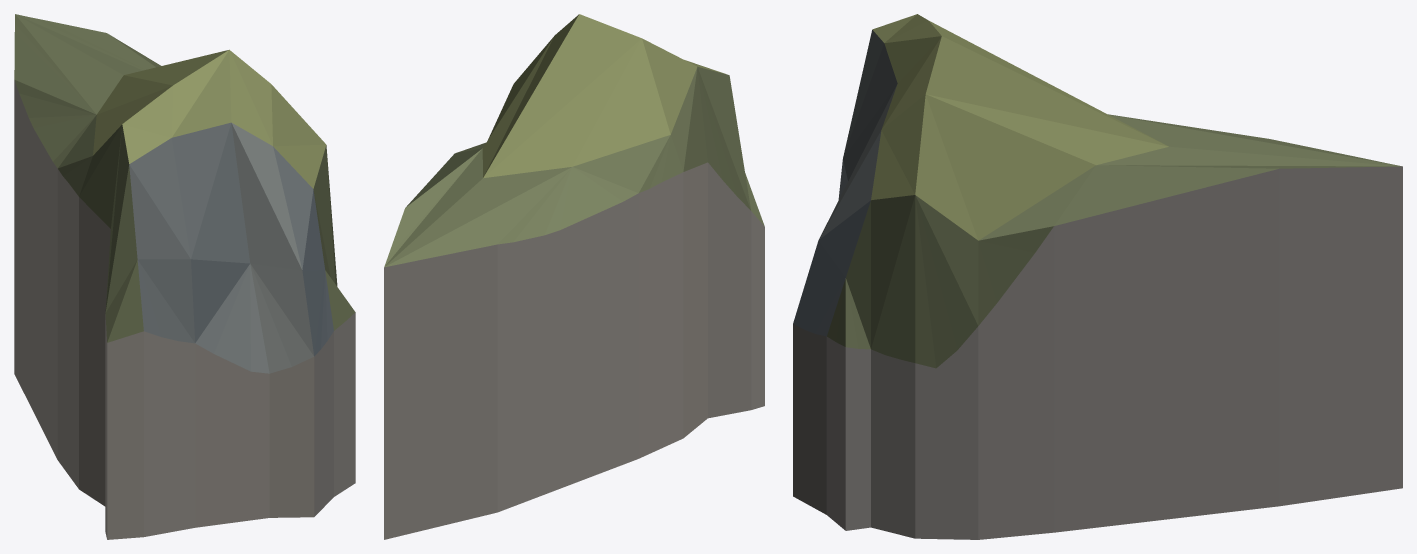
The model's file is cliff_central_wall.glb.
3 renders of one model, left to right at view 1: azimuth 30°, elevation 25°; view 2: azimuth 150°, elevation 25°; view 3: azimuth 270°, elevation 25°, orthographic. The views are drawn at different scales.
Visible parts, largest first — view 1: cliff_central_wall; view 2: cliff_central_wall; view 3: cliff_central_wall.
Boxes of the visible parts, box(x1,y1,x2,y2) form: cliff_central_wall: box(14, 14, 355, 539); cliff_central_wall: box(384, 14, 764, 539); cliff_central_wall: box(793, 14, 1402, 539).
Size of the model in its own units: 51.4 by 79 by 96.56.
